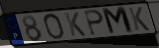8: (21, 14, 44, 42)
K: (127, 6, 152, 32), (64, 12, 88, 38)
M: (100, 5, 136, 36)
O: (42, 12, 66, 40)
P: (83, 9, 106, 37)
